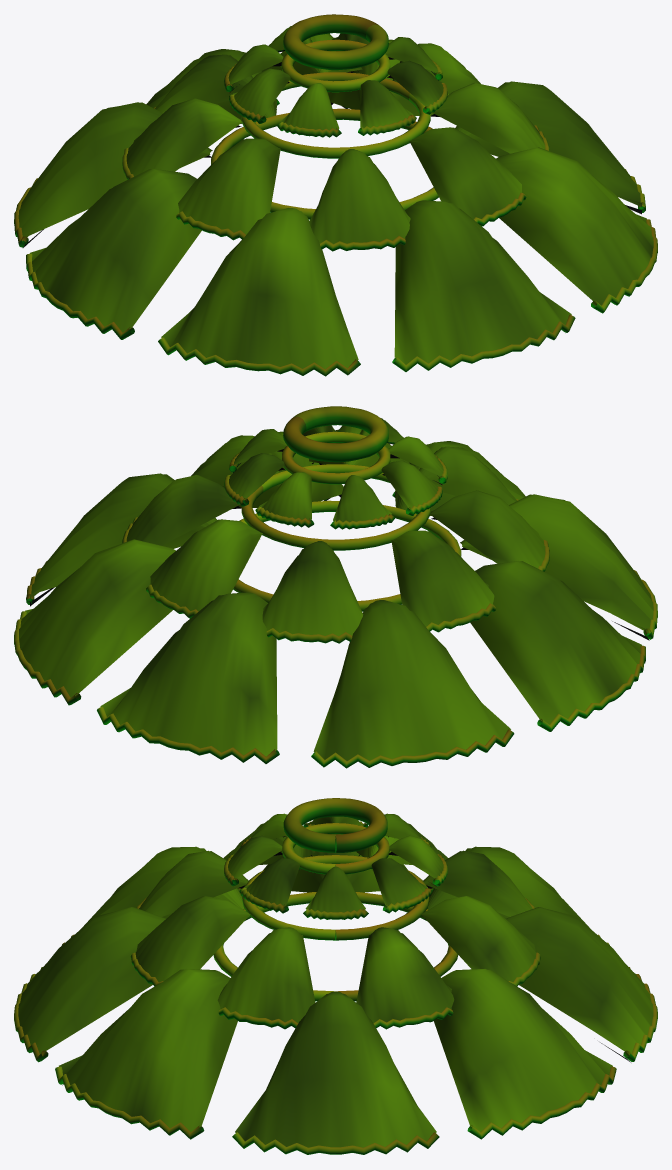
The model's file is roof_fan_shell.glb.
The picture shows the model from 3 angles, top to bottom: view 1: azimuth 30°, elevation 25°; view 2: azimuth 150°, elevation 25°; view 3: azimuth 270°, elevation 25°; orthographic projection.
Visible parts, largest first — view 1: roof_fan_shell; view 2: roof_fan_shell; view 3: roof_fan_shell.
Boxes of the visible parts, bbox=[...] form: roof_fan_shell: bbox=[14, 14, 657, 376]; roof_fan_shell: bbox=[14, 406, 657, 768]; roof_fan_shell: bbox=[14, 798, 657, 1154].
Size of what is drawn, in the model's own units: 14.94 by 5.33 by 14.94.
